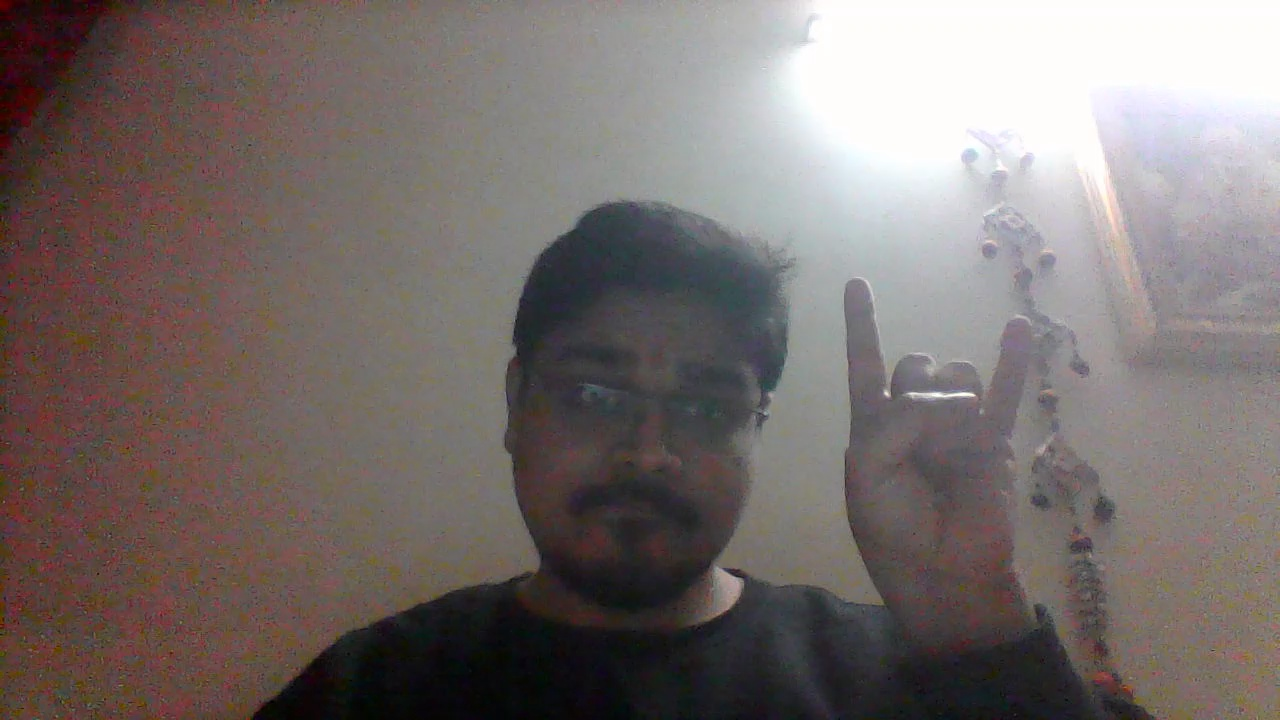ILoveYou: (838, 276, 1030, 609)
